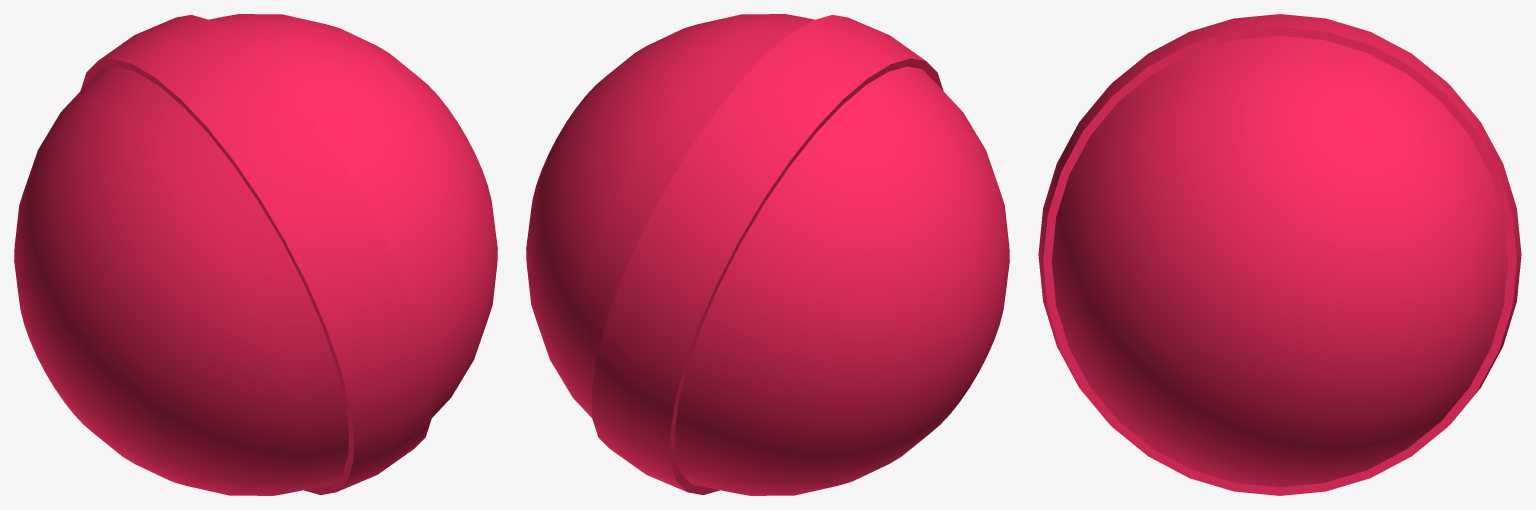
File: Loli-Pink-Kugel-liegend.gltf
The picture shows the model from 3 angles, left to right: view 1: azimuth 30°, elevation 25°; view 2: azimuth 150°, elevation 25°; view 3: azimuth 270°, elevation 25°; orthographic projection. The views are drawn at different scales.
Visible parts, largest first — view 1: Loli-Pink-Kugel-liegend; view 2: Loli-Pink-Kugel-liegend; view 3: Loli-Pink-Kugel-liegend.
Part boxes in pixels (x1=…): Loli-Pink-Kugel-liegend: x1=14, y1=14, x2=497, y2=495; Loli-Pink-Kugel-liegend: x1=526, y1=14, x2=1009, y2=495; Loli-Pink-Kugel-liegend: x1=1038, y1=14, x2=1521, y2=495.
Size of the model in its own units: 1.99 by 2.06 by 2.08.
